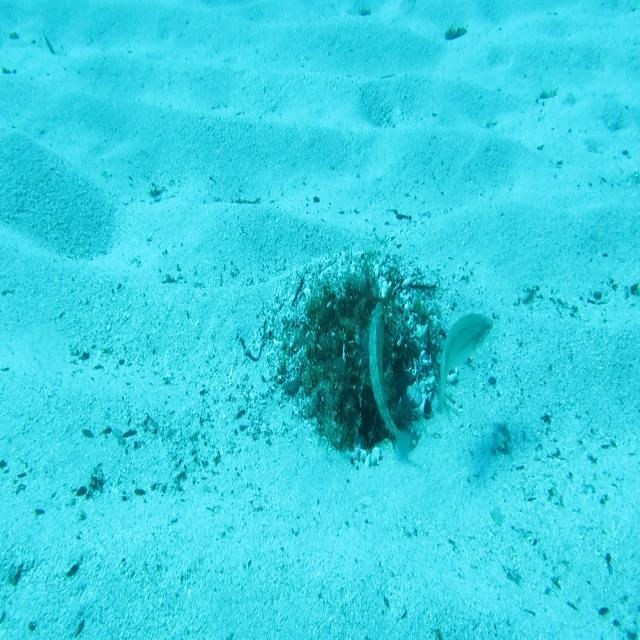FAN: (366, 296, 414, 464)
core_nest: (334, 299, 378, 346)
female: (430, 309, 496, 422)
nest: (250, 228, 471, 481)
vegetation: (443, 22, 469, 42)
